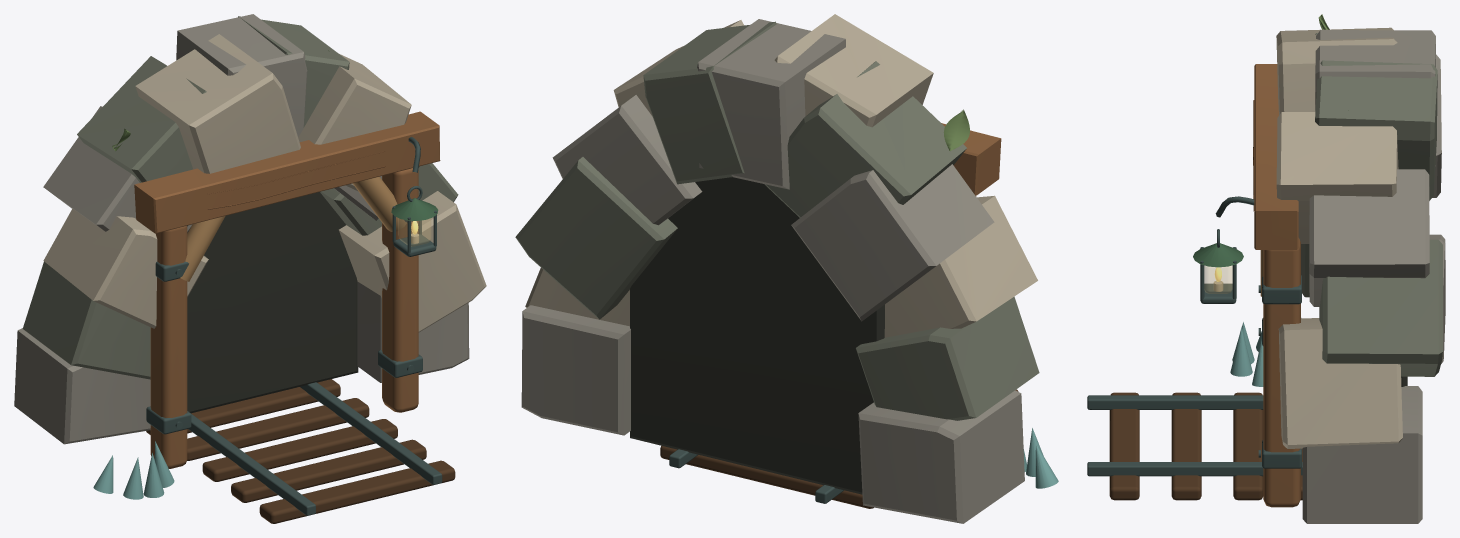
File: entrada_mina.glb
The picture shows the model from 3 angles, left to right: view 1: azimuth 30°, elevation 25°; view 2: azimuth 150°, elevation 25°; view 3: azimuth 270°, elevation 25°; orthographic projection. The views are drawn at different scales.
Visible parts, largest first — view 1: entrada_mina, mi_lampara_cristal; view 2: entrada_mina; view 3: entrada_mina, mi_lampara_cristal.
Part boxes in pixels (x1,y1,x2,y2): entrada_mina: (14,14,486,523); mi_lampara_cristal: (398,218,430,246); entrada_mina: (515,14,1058,523); entrada_mina: (1087,14,1445,523); mi_lampara_cristal: (1204,266,1232,293).
Bounding box in the file's own units: 2.7 × 2.41 × 1.91.
